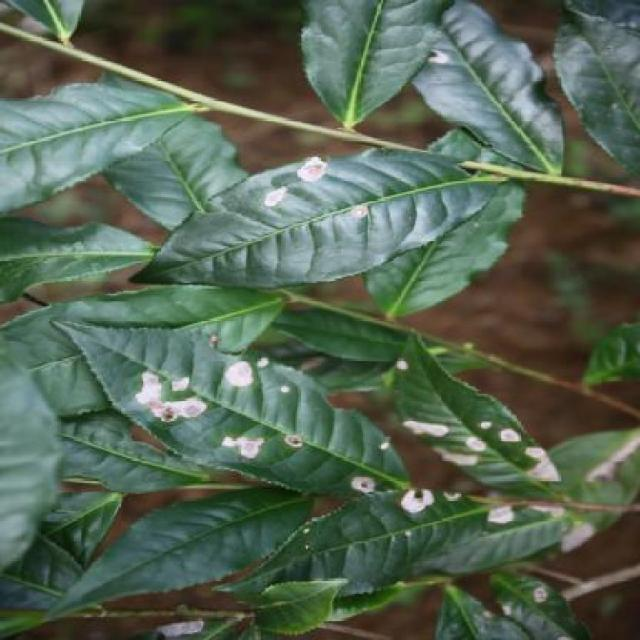Red Spider infested tea leaf: (59, 312, 422, 505), (417, 311, 595, 509), (209, 123, 482, 231), (282, 468, 552, 560)
